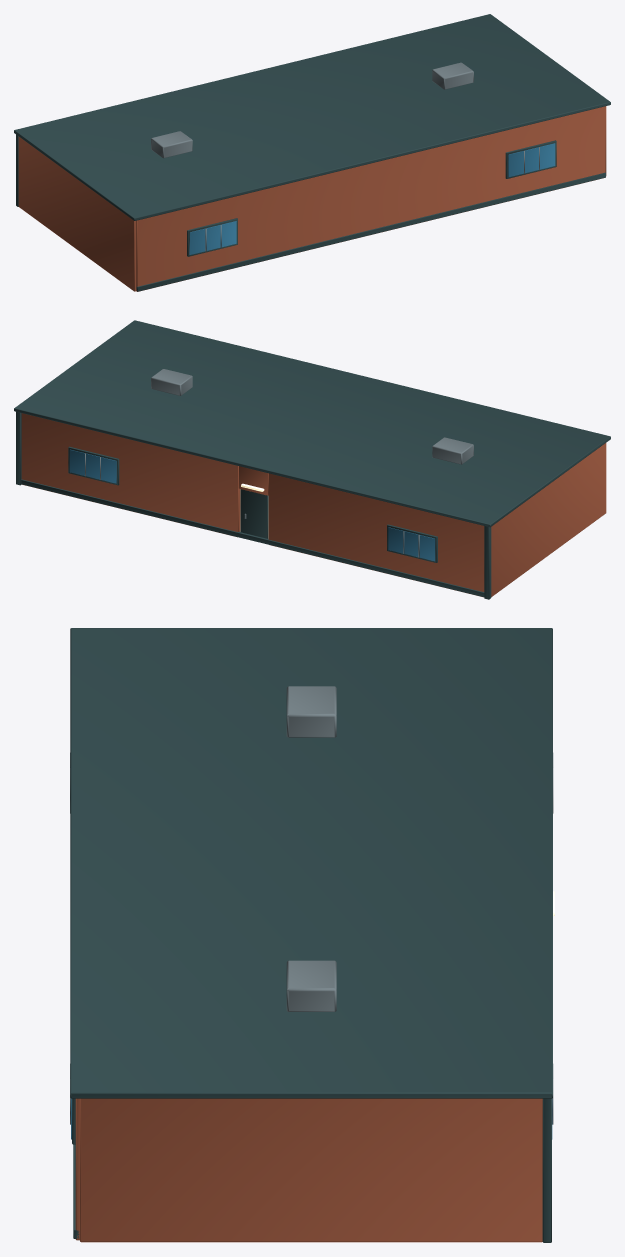
File: north-staff.glb
3 renders of one model, top to bottom at view 1: azimuth 30°, elevation 25°; view 2: azimuth 150°, elevation 25°; view 3: azimuth 270°, elevation 25°, orthographic. The views are drawn at different scales.
Visible parts, largest first — view 1: roof_0_trim, shell_0_wall, shell_0_trim, shell_0_blue, roof_0_metal; view 2: roof_0_trim, shell_0_wall, shell_0_trim, shell_0_blue, roof_0_metal, door_0_trim; view 3: roof_0_trim, shell_0_wall, roof_0_metal, shell_0_trim.
Part boxes in pixels (<box>): roof_0_trim: <box>14,14,610,220</box>; shell_0_wall: <box>18,106,606,291</box>; shell_0_trim: <box>16,134,605,291</box>; shell_0_blue: <box>189,143,555,254</box>; roof_0_metal: <box>151,62,473,158</box>; roof_0_trim: <box>14,320,610,527</box>; shell_0_wall: <box>21,413,606,597</box>; shell_0_trim: <box>16,412,491,599</box>; shell_0_blue: <box>69,449,435,561</box>; roof_0_metal: <box>151,369,473,464</box>; door_0_trim: <box>240,489,268,538</box>; roof_0_trim: <box>70,628,552,1098</box>; shell_0_wall: <box>75,1098,542,1242</box>; roof_0_metal: <box>286,686,336,1011</box>; shell_0_trim: <box>72,1098,551,1242</box>.
Size of the model in its own units: 28.5 by 5 by 12.56.
